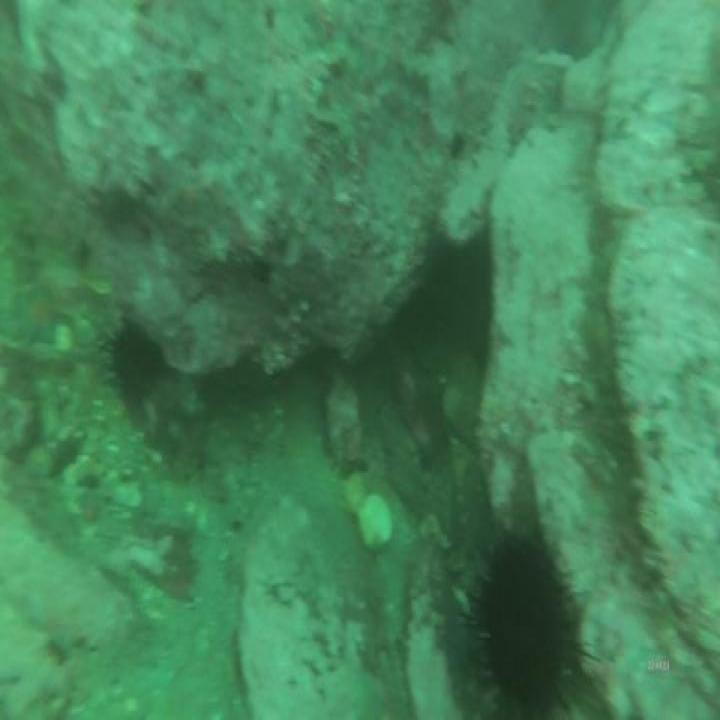echinus: (454, 508, 592, 720), (97, 310, 170, 414)
